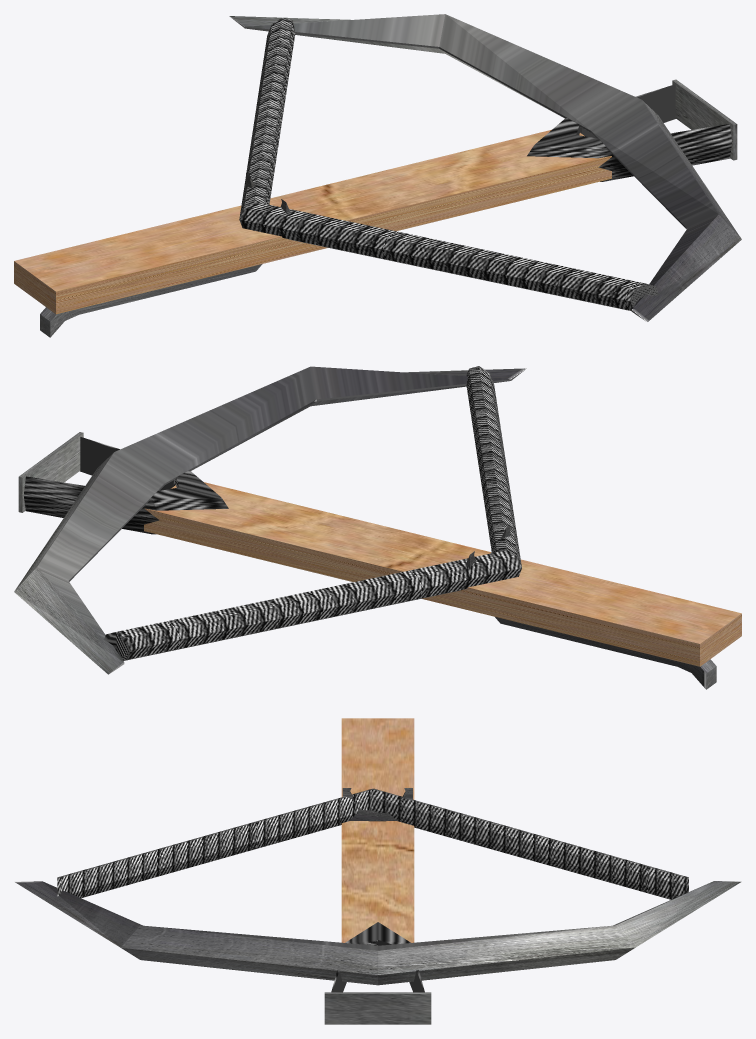
File: Crossbow23.obj
The picture shows the model from 3 angles, top to bottom: view 1: azimuth 30°, elevation 25°; view 2: azimuth 150°, elevation 25°; view 3: azimuth 270°, elevation 25°; orthographic projection. The views are drawn at different scales.
Parts seen in each view (by area): view 1: Sphere.002, Sphere.001, Sphere; view 2: Sphere.002, Sphere.001, Sphere; view 3: Sphere.001, Sphere, Sphere.002.
Boxes of the visible parts, box(x1,y1,x2,y2) form: Sphere.002: box(14, 129, 611, 314); Sphere.001: box(40, 14, 741, 337); Sphere: box(239, 17, 731, 311); Sphere.002: box(144, 482, 741, 666); Sphere.001: box(14, 366, 716, 689); Sphere: box(23, 366, 521, 660); Sphere.001: box(14, 788, 741, 1024); Sphere: box(57, 788, 688, 992); Sphere.002: box(341, 718, 414, 942).
Size of the model in its own units: 4.67 by 0.6142 by 5.04.
